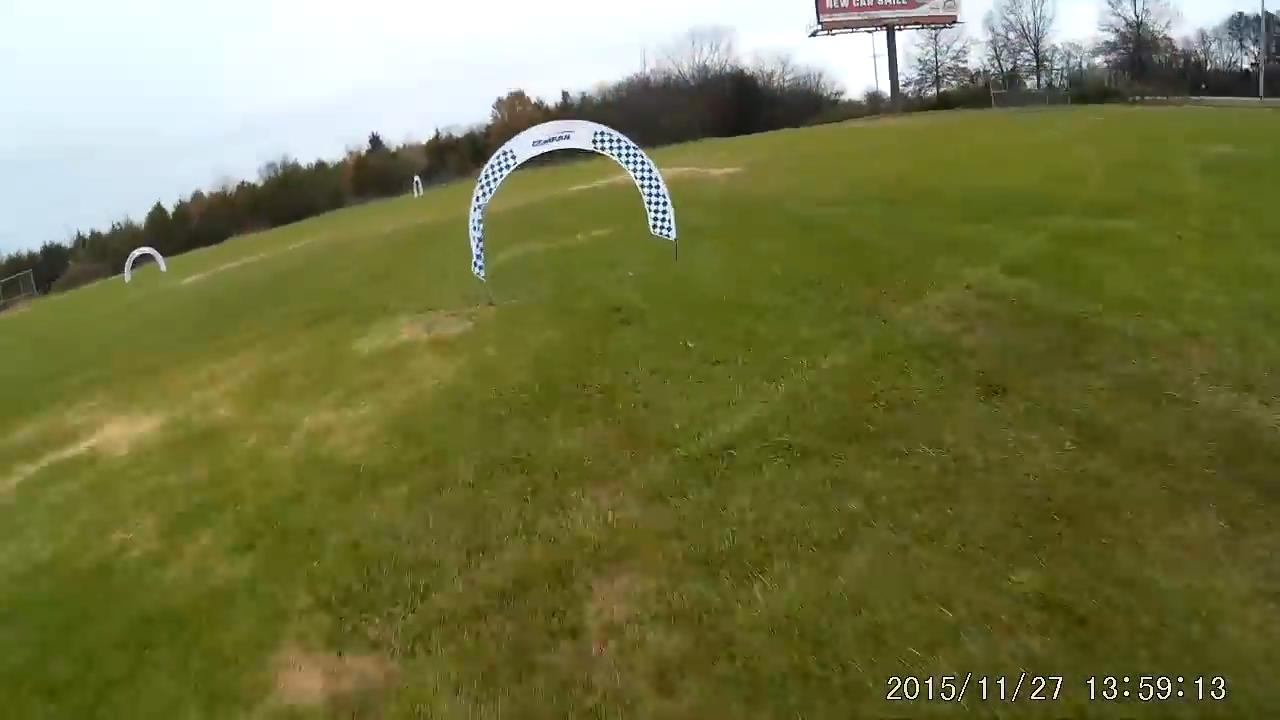gate: (462, 117, 682, 280)
